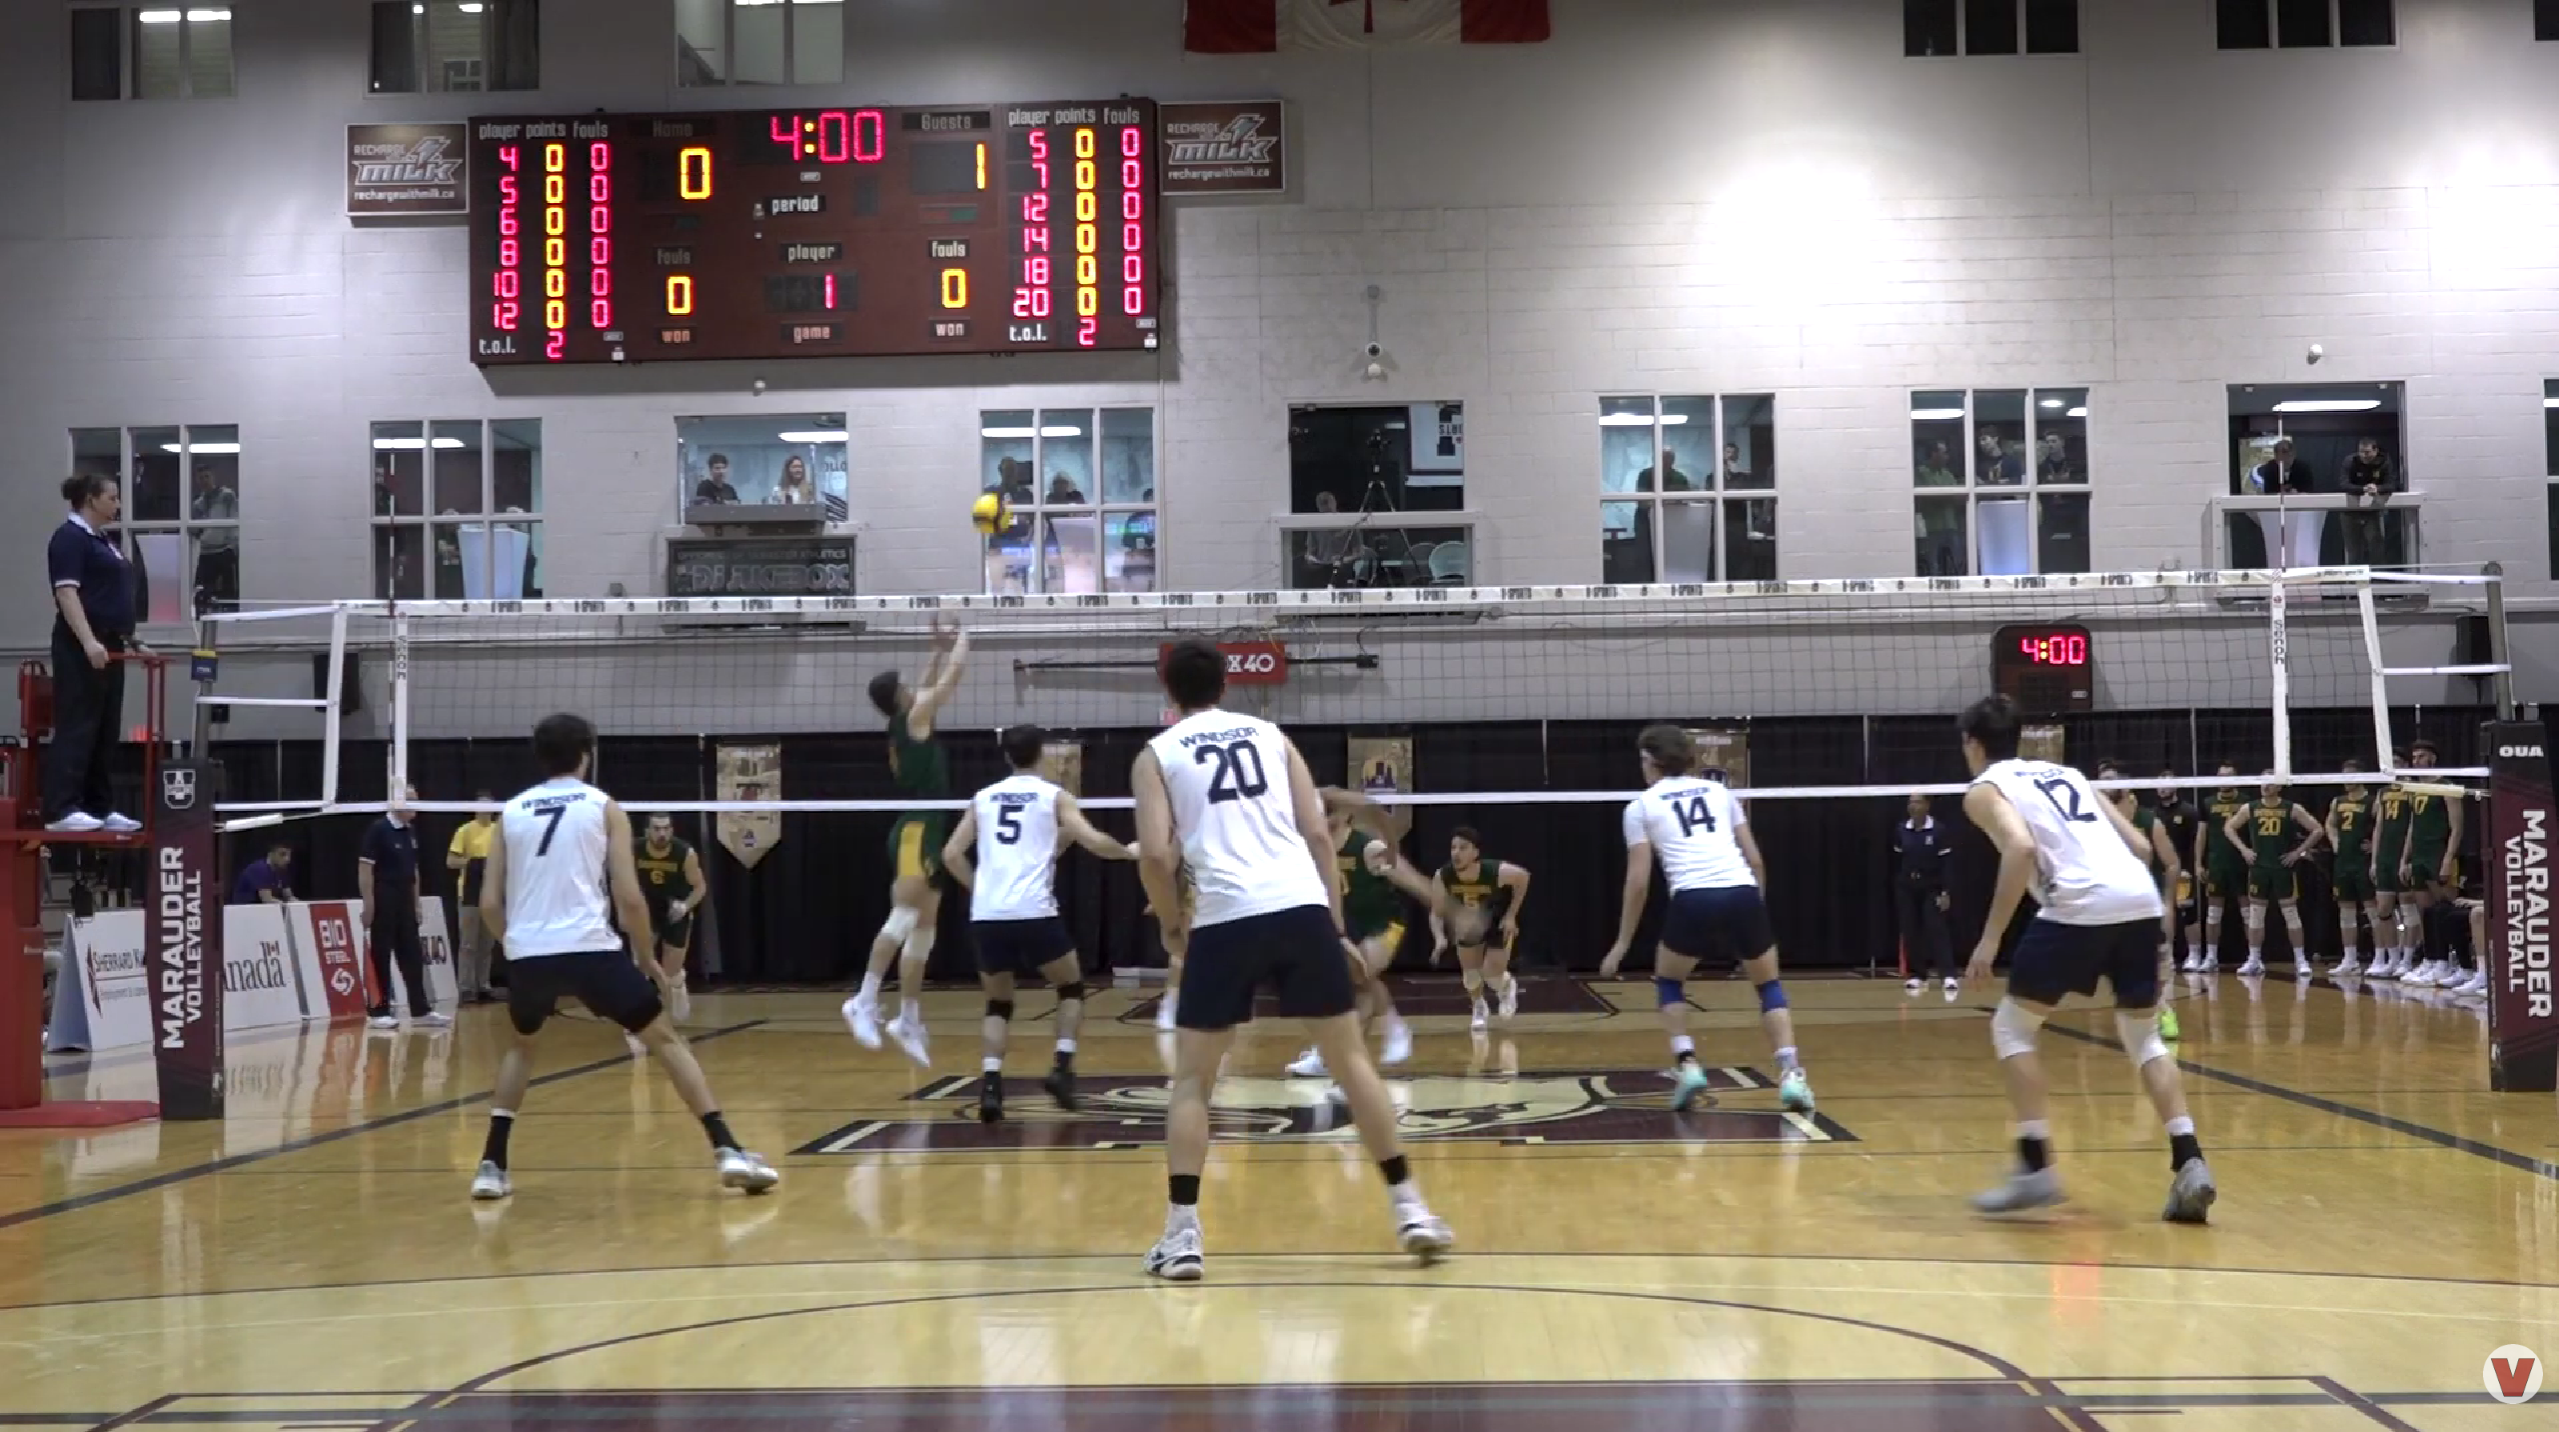Ball: (972, 494, 1011, 536)
